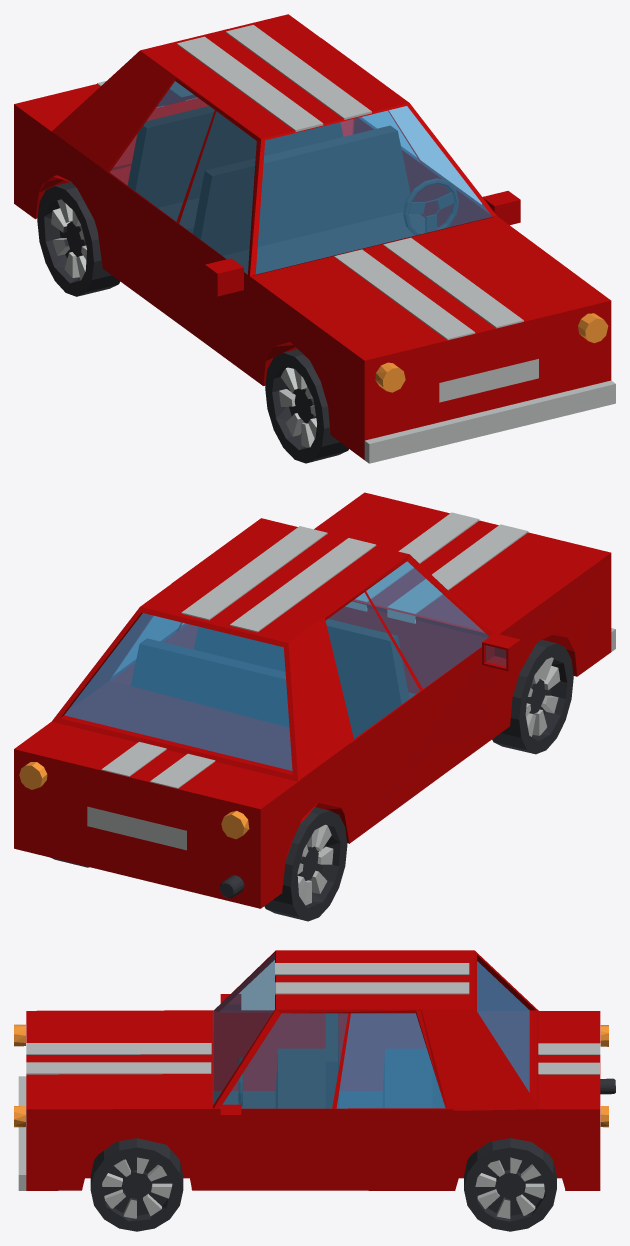
Rendered from voiture1.gltf.
3 views of the same model, one above another, from view 1: azimuth 30°, elevation 25°; view 2: azimuth 150°, elevation 25°; view 3: azimuth 270°, elevation 25° (orthographic). The views are drawn at different scales.
Parts seen in each view (by area): view 1: carrosserie, parebrise, siege_avant, siege_arriere, fenetre_doite_avant, fenetre_droite_arrière, bas_de_caisse, roues_avant_droite, roue_arriere_droite, bande_toit_gauche, bande_toit_droite, bande_avant_gauche (+10 smaller); view 2: carrosserie, fenetre_arriere, bloc_arriere, siege_avant, siege_arriere, fenetre_doite_avant, fenetre_droite_arrière, roue_arriere_droite, roues_avant_droite, bloc_avant, bande_toit_droite, bande_toit_gauche (+10 smaller); view 3: carrosserie, fenetre _gauche _avant, fenetre _gauche _arrière, roues_avant_gauche, roue_arriere_gauche, parebrise, siege_avant, fenetre_arriere, siege_arriere, bande_toit_droite, bande_avant_droite, bande_toit_gauche (+8 smaller).
Boxes of the visible parts, x1,y1,x2,y2 form: carrosserie: (14, 14, 611, 459); parebrise: (256, 106, 491, 274); siege_avant: (193, 125, 437, 274); siege_arriere: (127, 106, 343, 233); fenetre_doite_avant: (179, 111, 256, 274); fenetre_droite_arrière: (110, 81, 214, 221); bas_de_caisse: (364, 380, 615, 463); roues_avant_droite: (265, 349, 348, 463); roue_arriere_droite: (37, 182, 120, 296); bande_toit_gauche: (177, 36, 323, 131); bande_toit_droite: (226, 25, 371, 119); bande_avant_gauche: (334, 249, 475, 340); carrosserie: (14, 492, 611, 908); fenetre_arriere: (64, 613, 292, 770); bloc_arriere: (65, 681, 292, 770); siege_avant: (194, 619, 415, 738); siege_arriere: (131, 638, 288, 727); fenetre_doite_avant: (366, 562, 488, 688); fenetre_droite_arrière: (326, 592, 419, 738); roue_arriere_droite: (264, 807, 347, 921); roues_avant_droite: (492, 640, 573, 754); bloc_avant: (328, 601, 488, 693); bande_toit_droite: (181, 526, 327, 620); bande_toit_gauche: (230, 538, 376, 632); carrosserie: (26, 950, 600, 1190); fenetre _gauche _avant: (223, 1013, 347, 1108); fenetre _gauche _arrière: (337, 1013, 445, 1108); roues_avant_gauche: (90, 1138, 183, 1231); roue_arriere_gauche: (464, 1138, 556, 1231); parebrise: (213, 953, 274, 1104); siege_avant: (275, 1013, 338, 1108); fenetre_arriere: (477, 961, 529, 1092); siege_arriere: (383, 1049, 444, 1107); bande_toit_droite: (275, 982, 469, 994); bande_avant_droite: (26, 1062, 211, 1074); bande_toit_gauche: (275, 963, 469, 975).
Size of the model in its own units: 3.91 by 3.04 by 8.22.
Materials: 9 (9 with a texture image).
